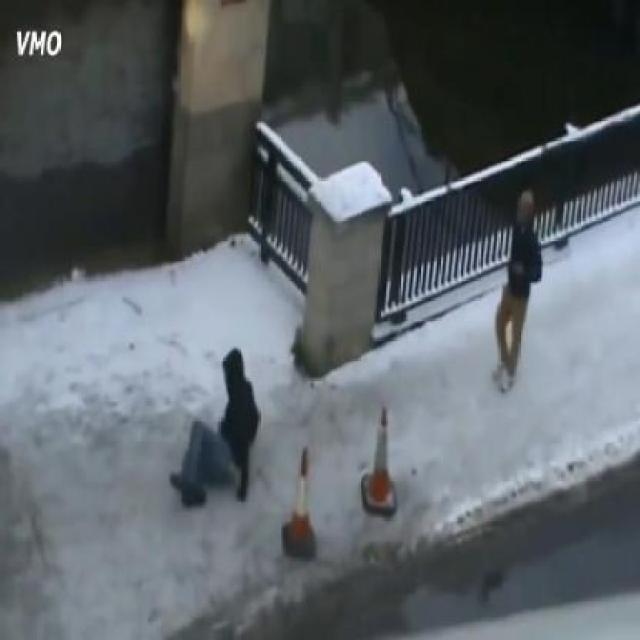fall: (167, 345, 262, 513)
